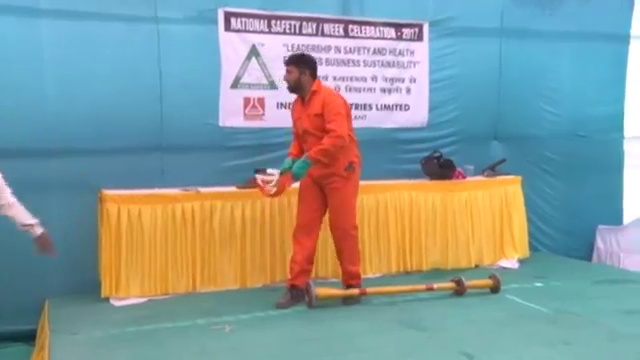helmet_off: (282, 54, 317, 97)
person: (277, 51, 364, 309)
